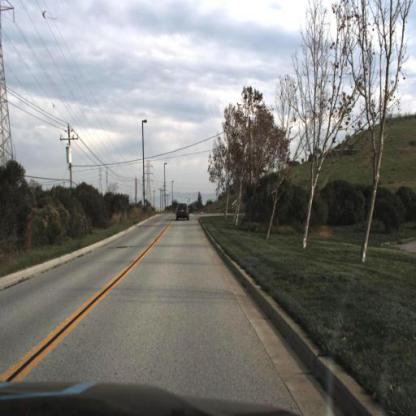car: (176, 199, 192, 226)
